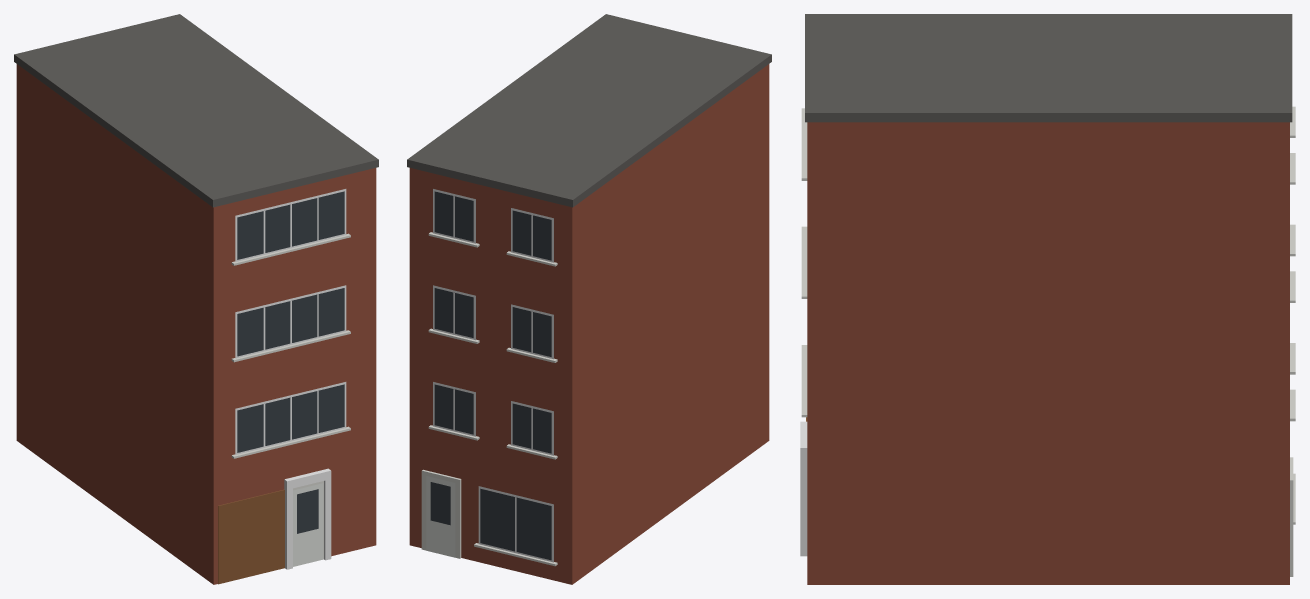
Rendered from nw-os-garage__brick__4__flat__long__solid.glb.
3 renders of one model, left to right at view 1: azimuth 30°, elevation 25°; view 2: azimuth 150°, elevation 25°; view 3: azimuth 270°, elevation 25°, orthographic. The views are drawn at different scales.
Parts seen in each view (by area): view 1: nw-os-garage__brick__4__flat__long__solid; view 2: nw-os-garage__brick__4__flat__long__solid; view 3: nw-os-garage__brick__4__flat__long__solid.
Boxes of the visible parts, left/top/right/bottom form: nw-os-garage__brick__4__flat__long__solid: left=14, top=14, right=378, bottom=584; nw-os-garage__brick__4__flat__long__solid: left=407, top=14, right=771, bottom=584; nw-os-garage__brick__4__flat__long__solid: left=800, top=14, right=1295, bottom=584.
Size of the model in its own units: 5.1 by 11.35 by 10.77.
